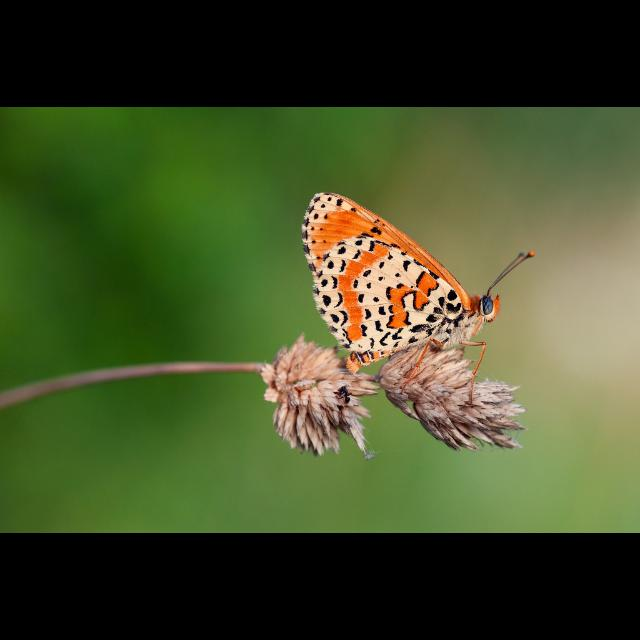Flower: (374, 346, 526, 454), (268, 338, 380, 454)
